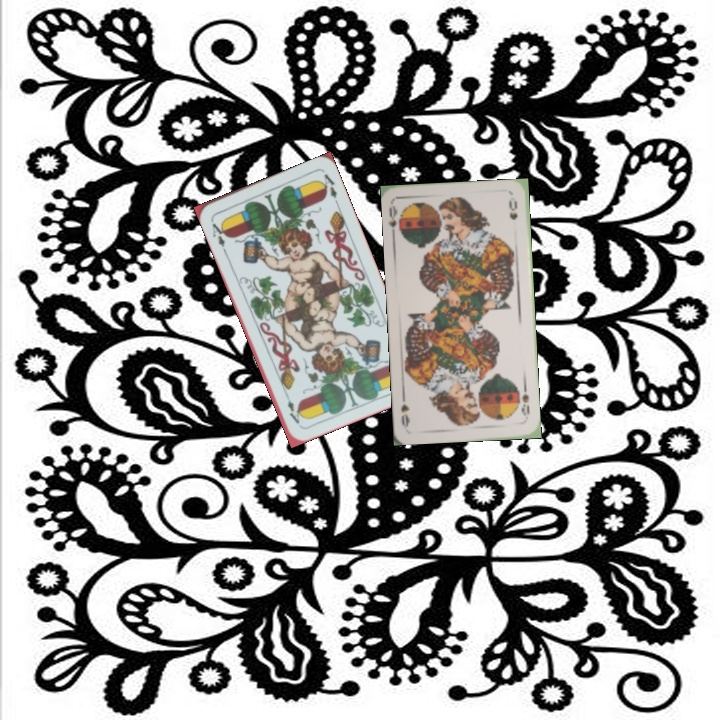EA: (207, 215, 230, 254)
SO: (385, 201, 405, 240), (517, 382, 532, 422)
